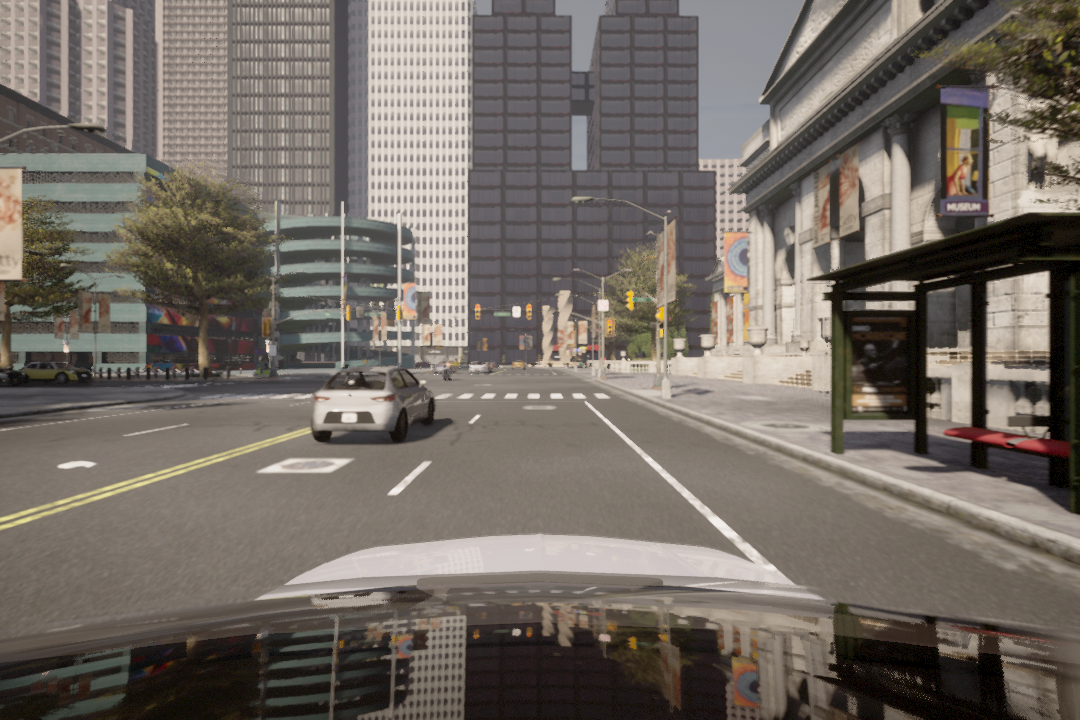TrafficLight: (605, 317, 617, 337), (524, 303, 534, 321), (472, 302, 481, 321)
walkside: (190, 391, 629, 403)
